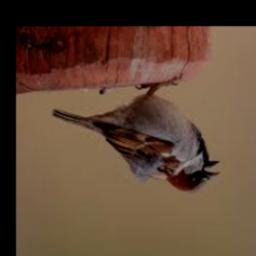Sparrow: (53, 75, 221, 194)
